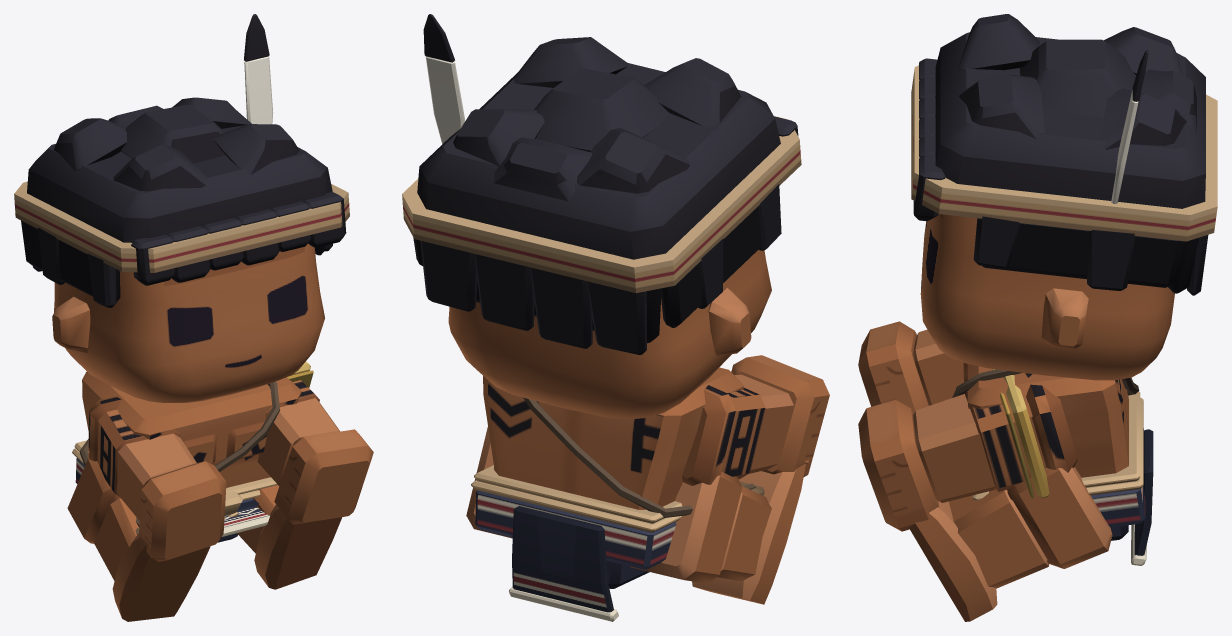
Rendered from audience_v2_young_man_sit.glb.
3 views of the same model, side by side, from view 1: azimuth 30°, elevation 25°; view 2: azimuth 150°, elevation 25°; view 3: azimuth 270°, elevation 25° (orthographic). The views are drawn at different scales.
Visible parts, largest first — view 1: audience_v2_young_man_sit; view 2: audience_v2_young_man_sit; view 3: audience_v2_young_man_sit.
Boxes of the visible parts, x1,y1,x2,y2 form: audience_v2_young_man_sit: (14, 14, 373, 621); audience_v2_young_man_sit: (402, 14, 829, 621); audience_v2_young_man_sit: (858, 14, 1217, 621).
Bounding box in the file's own units: 0.3595 × 0.7049 × 0.3908.
Materials: 1 (1 with a texture image).
